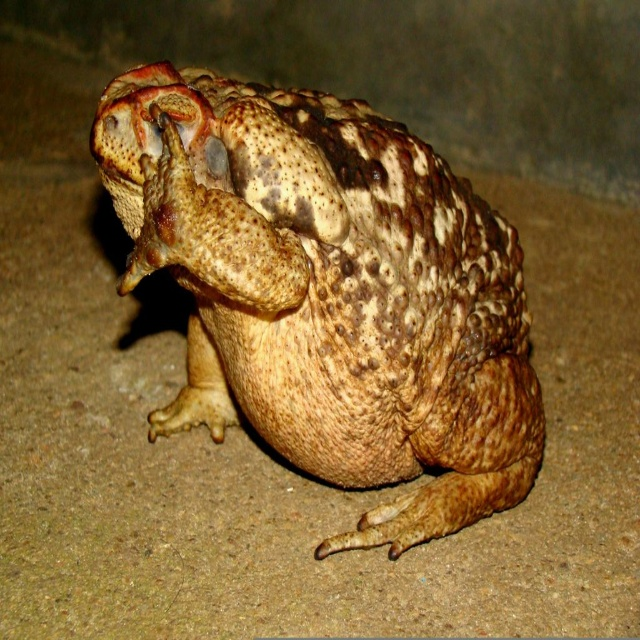Frog: (93, 61, 543, 555)
